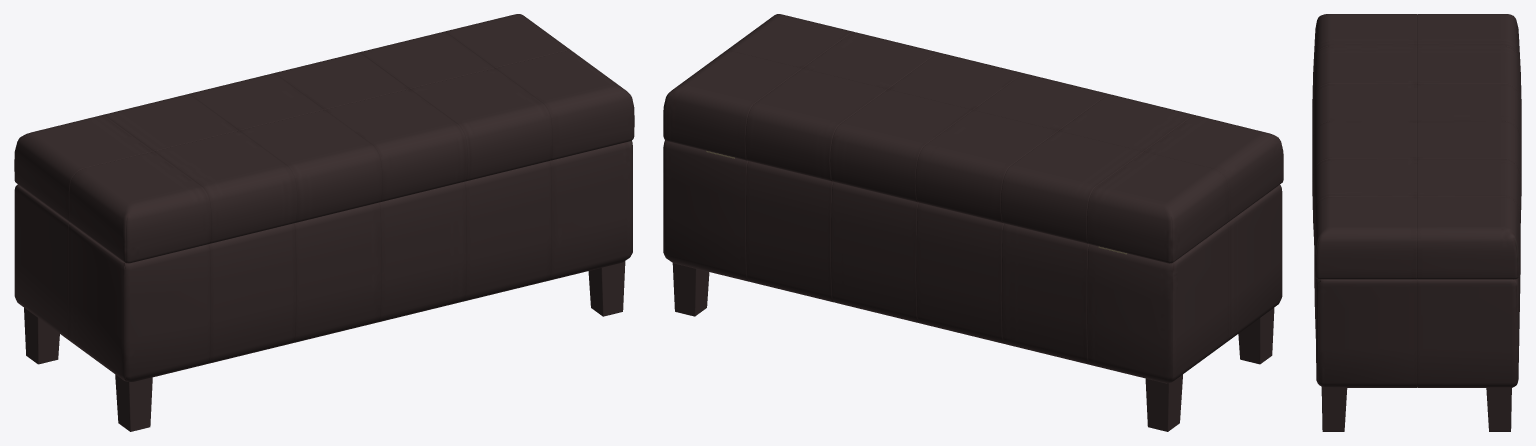
Rendered from B07DYJF9BH.glb.
3 views of the same model, side by side, from view 1: azimuth 30°, elevation 25°; view 2: azimuth 150°, elevation 25°; view 3: azimuth 270°, elevation 25° (orthographic). The views are drawn at different scales.
Parts seen in each view (by area): view 1: B07DYJF9BH; view 2: B07DYJF9BH; view 3: B07DYJF9BH.
Part boxes in pixels (x1,y1,x2,y2): B07DYJF9BH: (14, 14, 634, 431); B07DYJF9BH: (663, 14, 1283, 431); B07DYJF9BH: (1312, 14, 1521, 431).
Bounding box in the file's own units: 1.09 × 0.4572 × 0.4291.
1 material, 1 textured.
